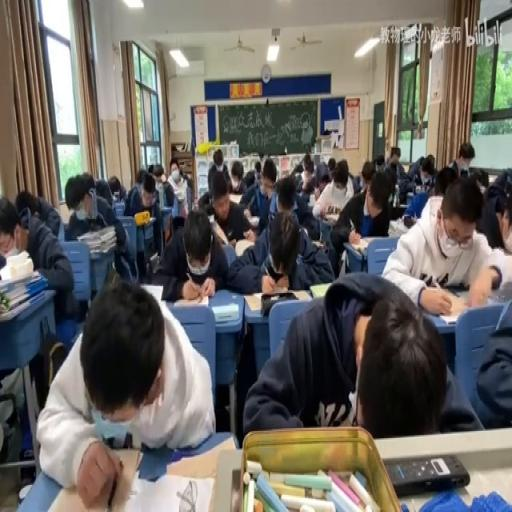calculator: (125, 471, 214, 512), (164, 434, 234, 480), (243, 289, 312, 310), (0, 267, 42, 294), (170, 292, 209, 307), (212, 302, 238, 322), (141, 282, 166, 302), (211, 220, 230, 246), (233, 238, 254, 256), (354, 236, 376, 253), (309, 282, 332, 298), (438, 310, 464, 323), (388, 218, 406, 236), (155, 180, 165, 208), (444, 282, 469, 292), (112, 199, 125, 216), (245, 213, 260, 226), (322, 213, 338, 225), (229, 192, 243, 205), (310, 239, 325, 250), (396, 202, 408, 215), (149, 250, 158, 266), (305, 194, 314, 208), (144, 216, 155, 225), (406, 192, 413, 205), (414, 183, 422, 192)
paper: (35, 276, 209, 506), (245, 272, 478, 436), (379, 175, 505, 311), (6, 190, 82, 340), (228, 201, 332, 290), (64, 171, 134, 290), (156, 205, 233, 300), (331, 168, 392, 270), (470, 284, 510, 430), (124, 170, 165, 260), (242, 158, 276, 230), (399, 158, 437, 217), (163, 158, 188, 217), (206, 146, 229, 190), (447, 141, 475, 176), (274, 175, 297, 215), (382, 151, 404, 192), (14, 190, 37, 224), (488, 171, 510, 203), (434, 165, 456, 193), (228, 158, 246, 192), (107, 175, 124, 200), (470, 168, 490, 189), (361, 161, 374, 186), (316, 164, 329, 188), (152, 165, 166, 185), (290, 159, 304, 178), (85, 183, 96, 205), (350, 172, 362, 192), (197, 191, 210, 209), (302, 172, 314, 191), (244, 168, 254, 189), (374, 152, 384, 172), (302, 152, 312, 172), (424, 152, 434, 172), (186, 179, 192, 212), (327, 158, 336, 178), (136, 166, 146, 184), (254, 159, 262, 179), (418, 158, 424, 175), (459, 165, 468, 176), (223, 162, 230, 175), (147, 164, 154, 174)
person: (384, 452, 470, 496), (230, 468, 242, 510), (486, 286, 512, 304), (403, 214, 416, 228)
